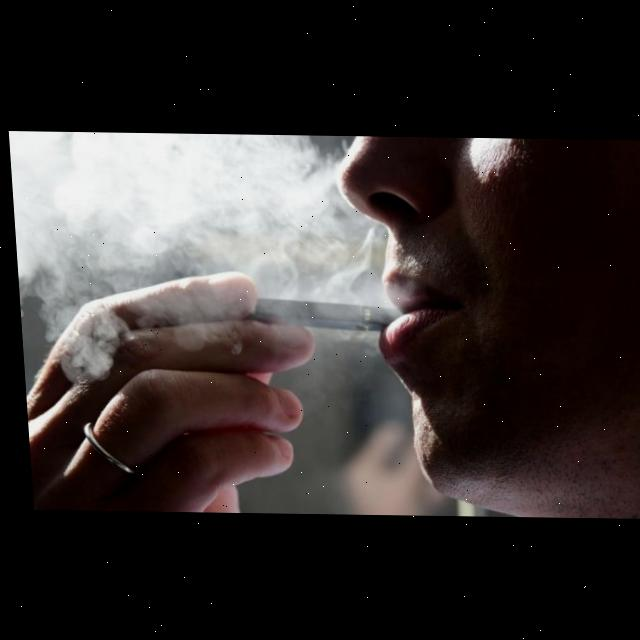vape: (237, 295, 399, 330)
